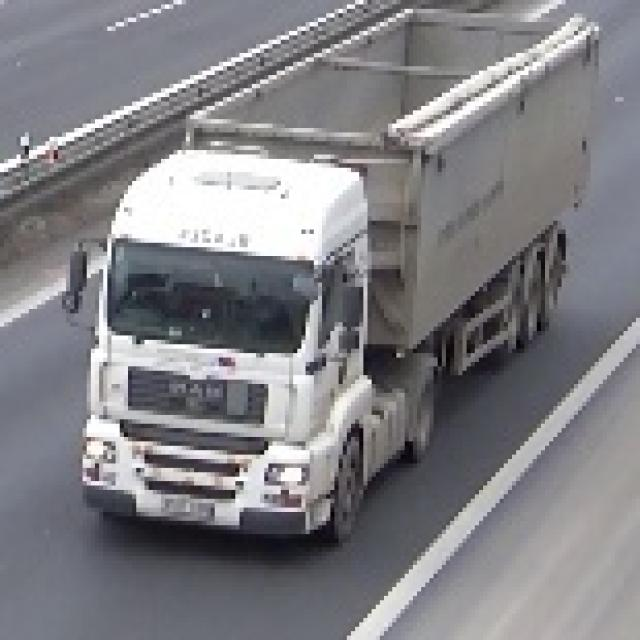TRUCK: (82, 16, 596, 553)
